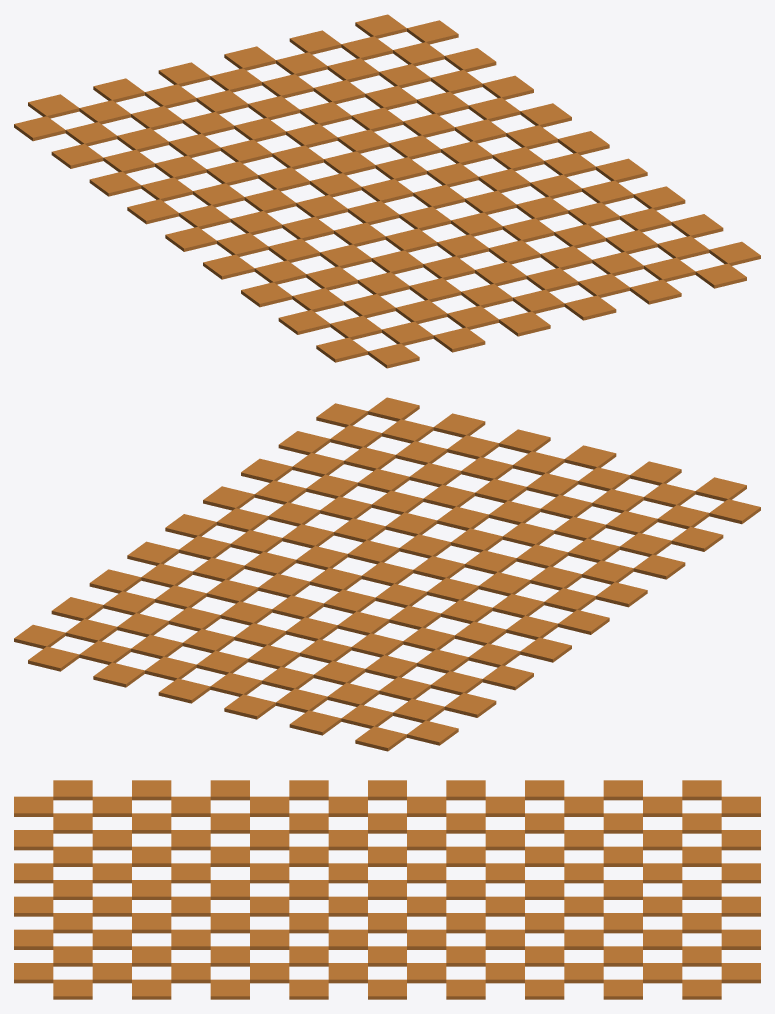
The model's file is sand_tiles_19x13.obj.
3 views of the same model, one above another, from view 1: azimuth 30°, elevation 25°; view 2: azimuth 150°, elevation 25°; view 3: azimuth 270°, elevation 25° (orthographic). The views are drawn at different scales.
Parts seen in each view (by area): view 1: mergedBlocks; view 2: mergedBlocks; view 3: mergedBlocks.
Boxes of the visible parts, bbox=[...] form: mergedBlocks: bbox=[14, 14, 760, 368]; mergedBlocks: bbox=[14, 397, 760, 751]; mergedBlocks: bbox=[14, 780, 760, 999].
Size of the model in its own units: 13 by 0.1 by 19.
